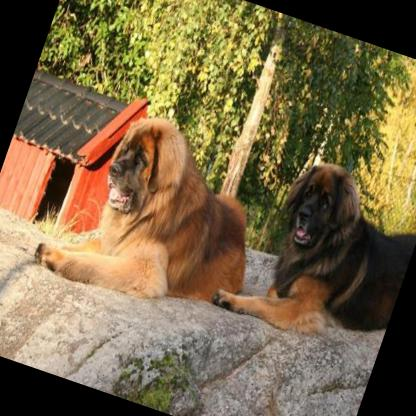Leonberg: (29, 91, 286, 334), (207, 136, 416, 363)
